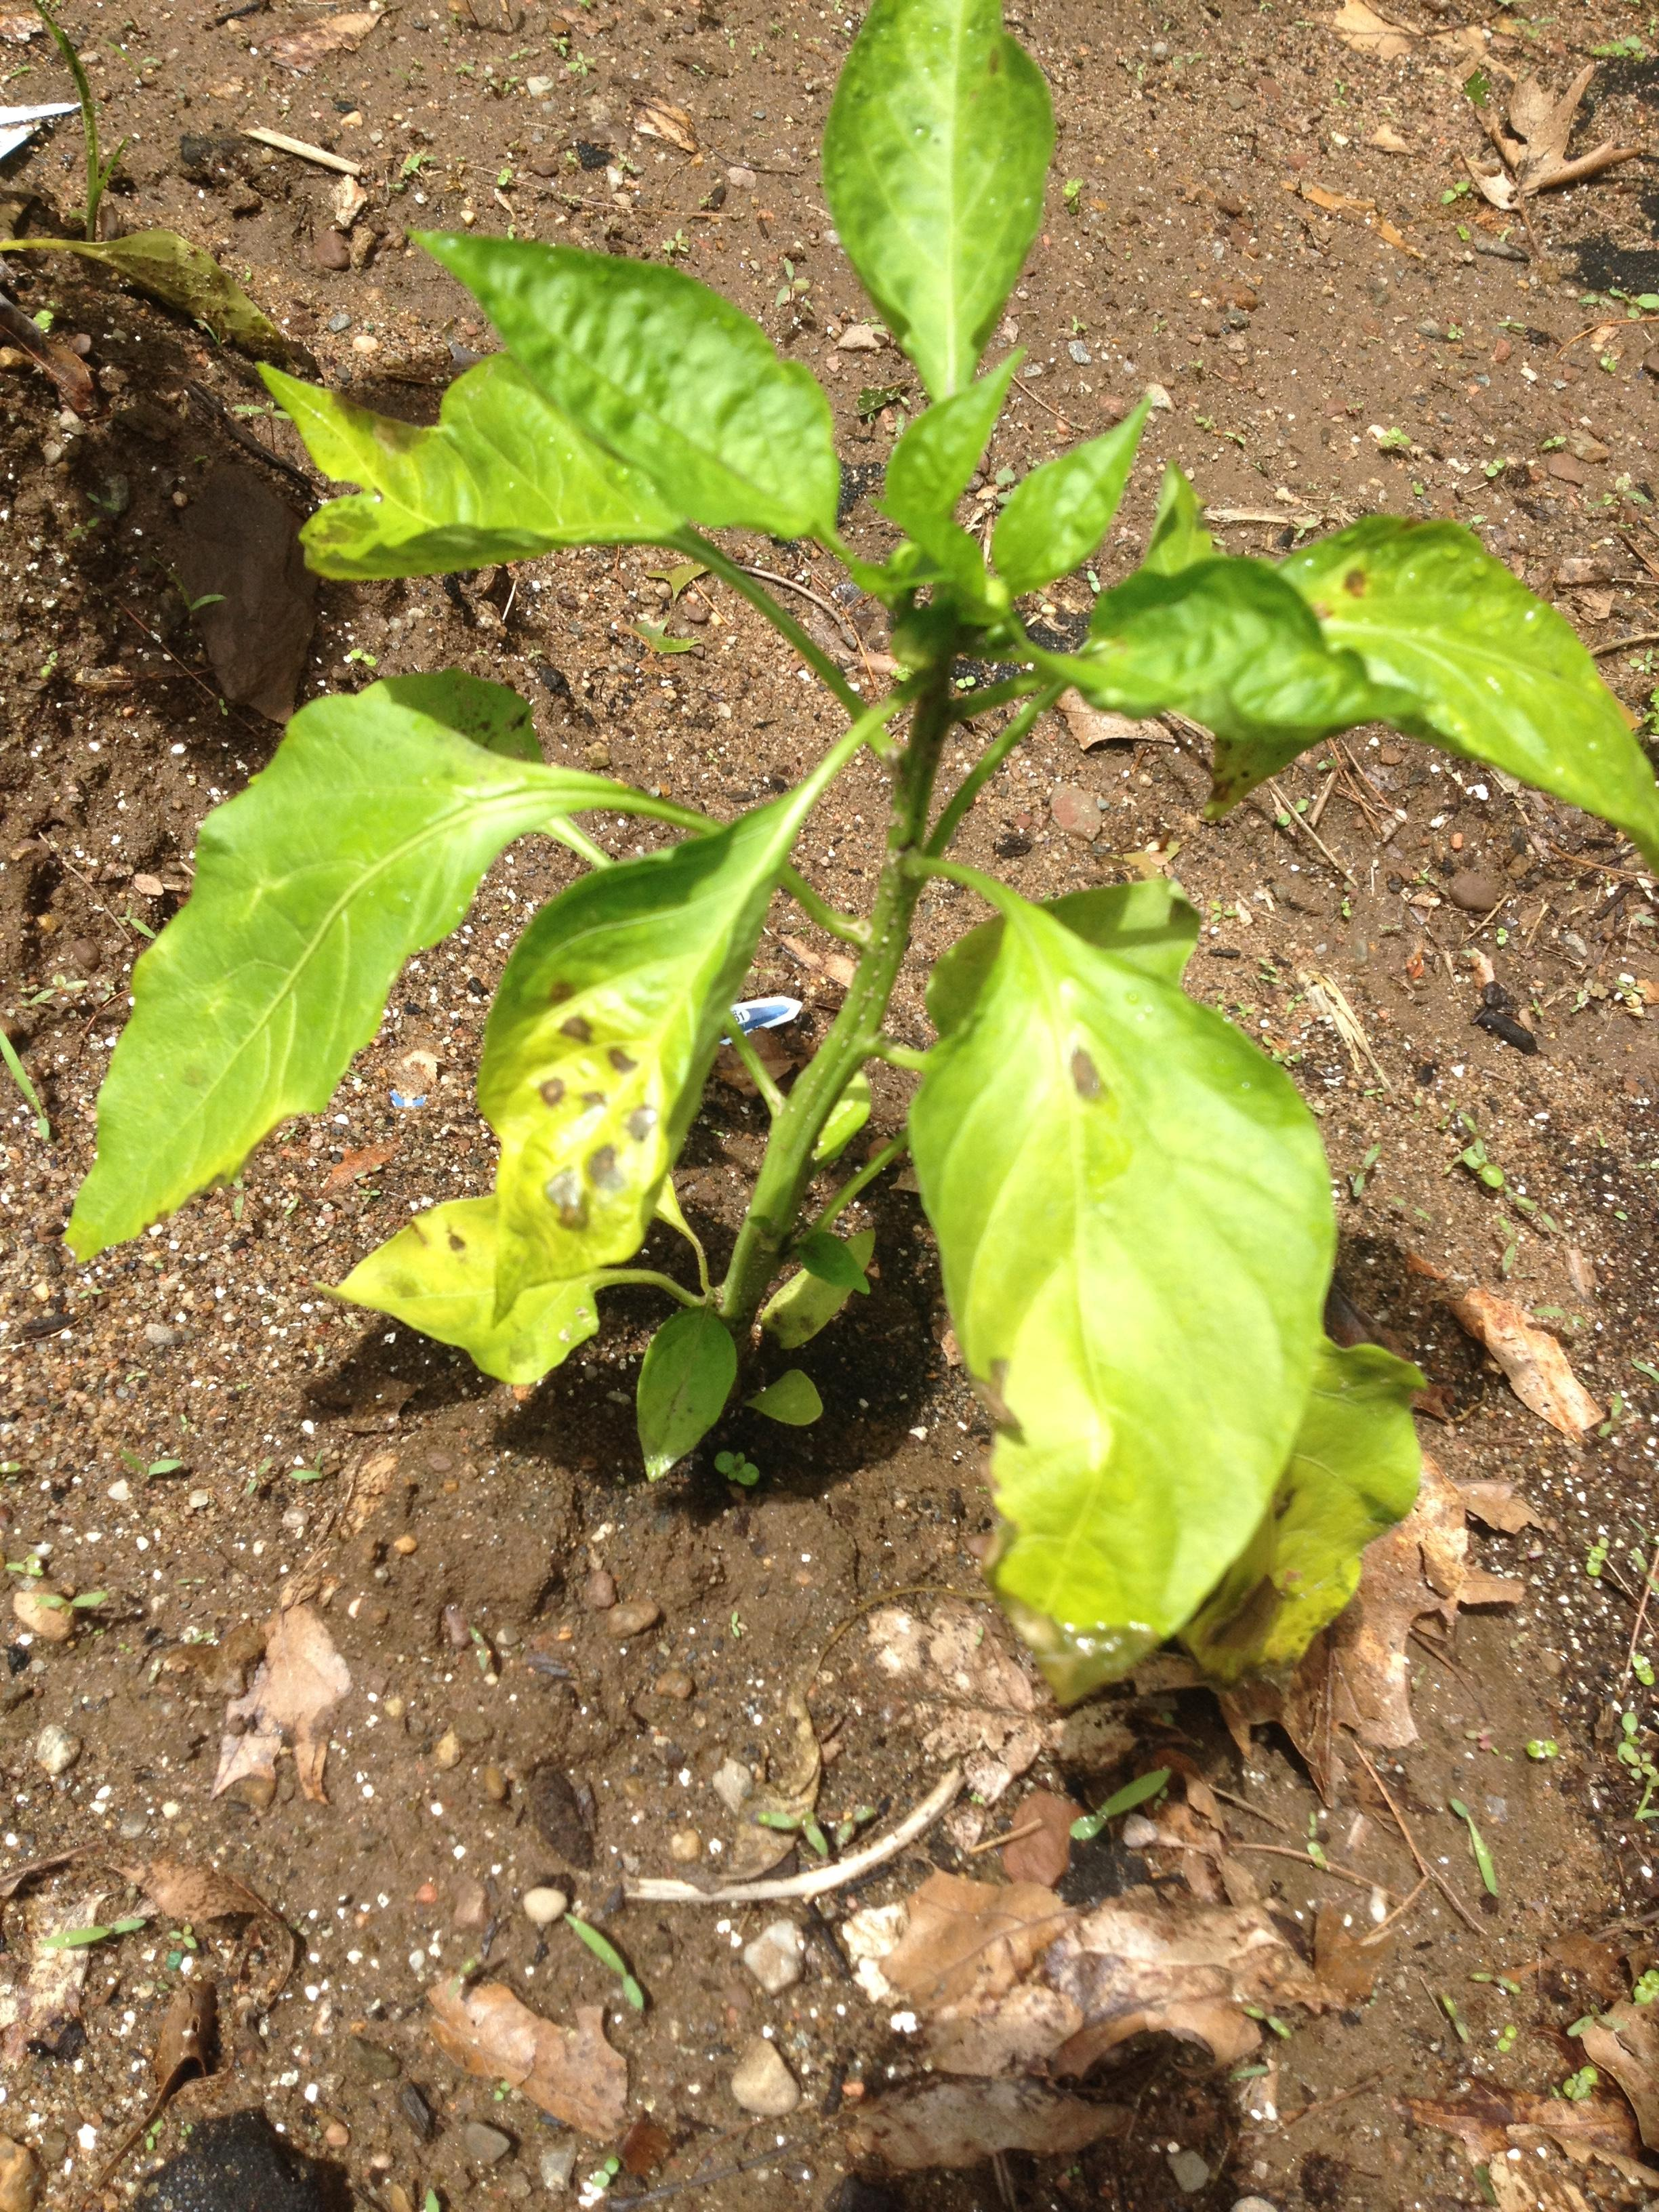Bell_pepper leaf spot: (878, 850, 1340, 1646), (63, 676, 634, 1264), (408, 211, 870, 557), (1236, 509, 1654, 855), (821, 3, 1091, 390)
